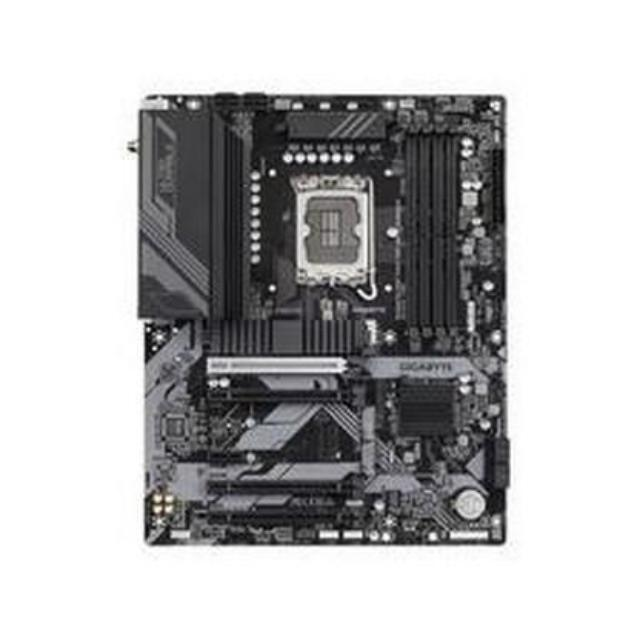Mainboard: (127, 80, 513, 566)
